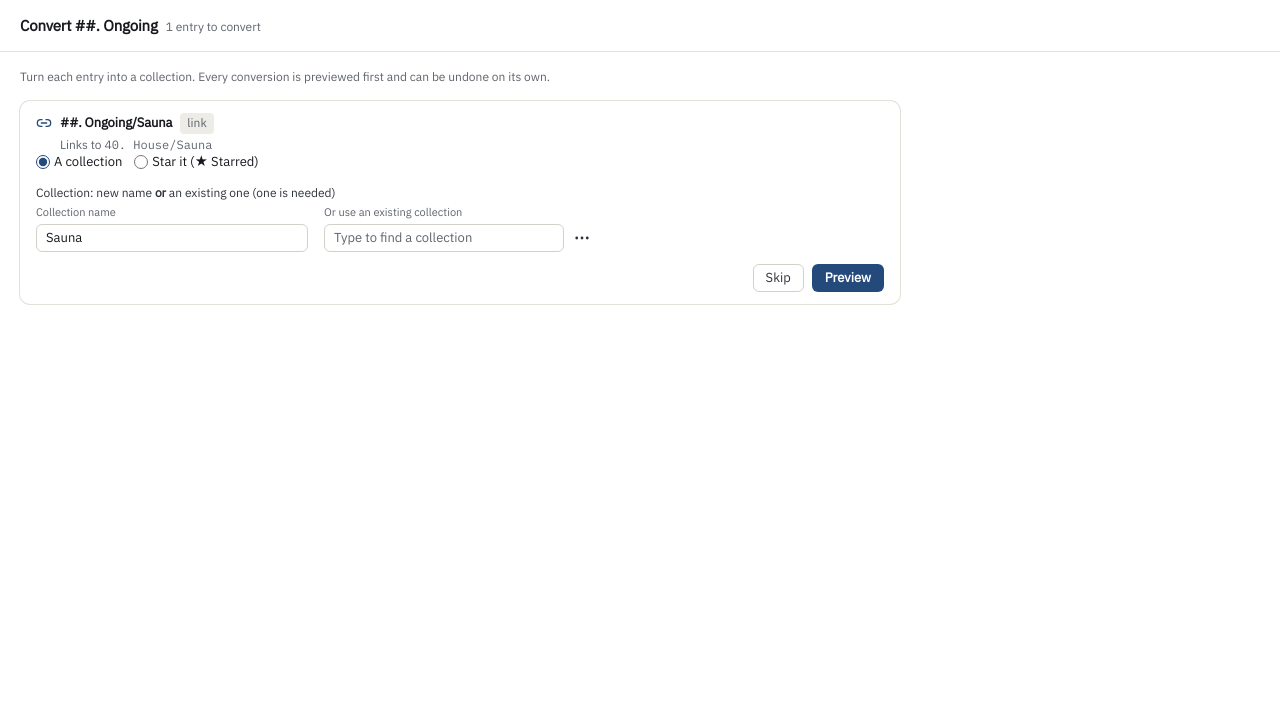
Scenario: ConvertOngoing › previews a new collection, shows ops, members and notes, and applies exactly the previewed body
Replace the text in the field labelled "Collection name" with "Sauna build" at (172, 238), box [36,224,308,252]
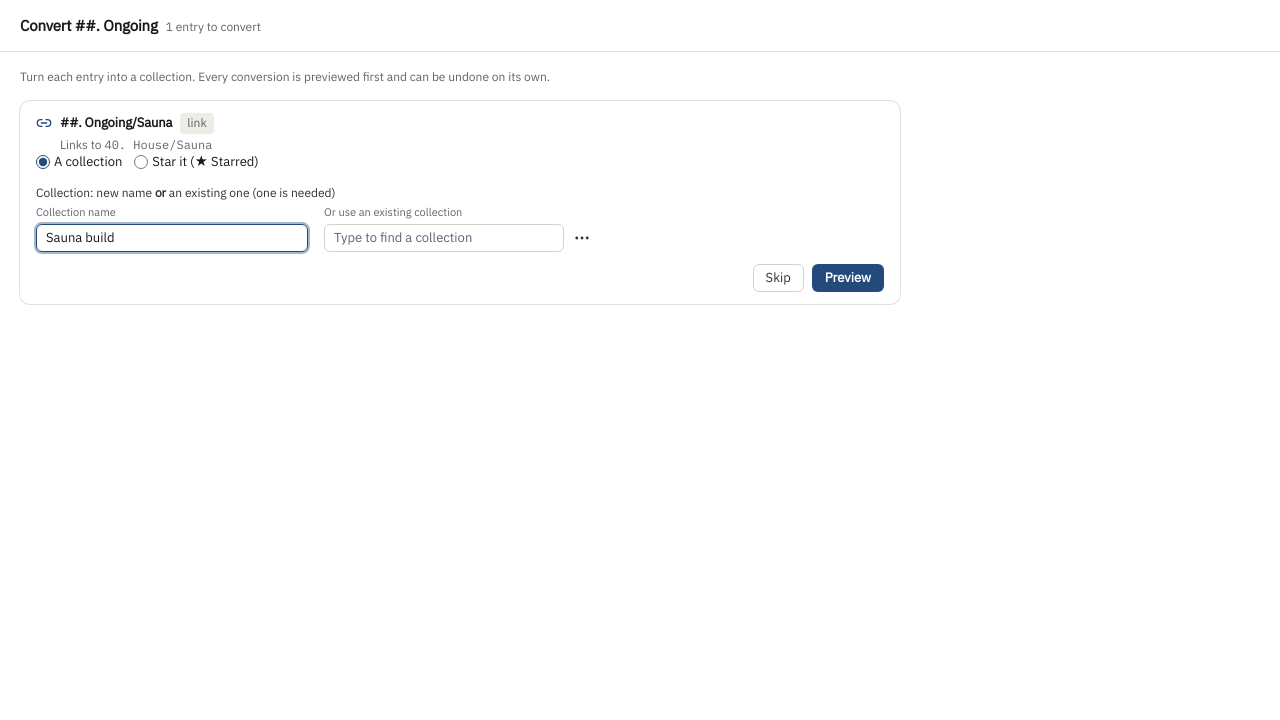
Click the button "Preview" at (848, 278), box [812,264,884,292]
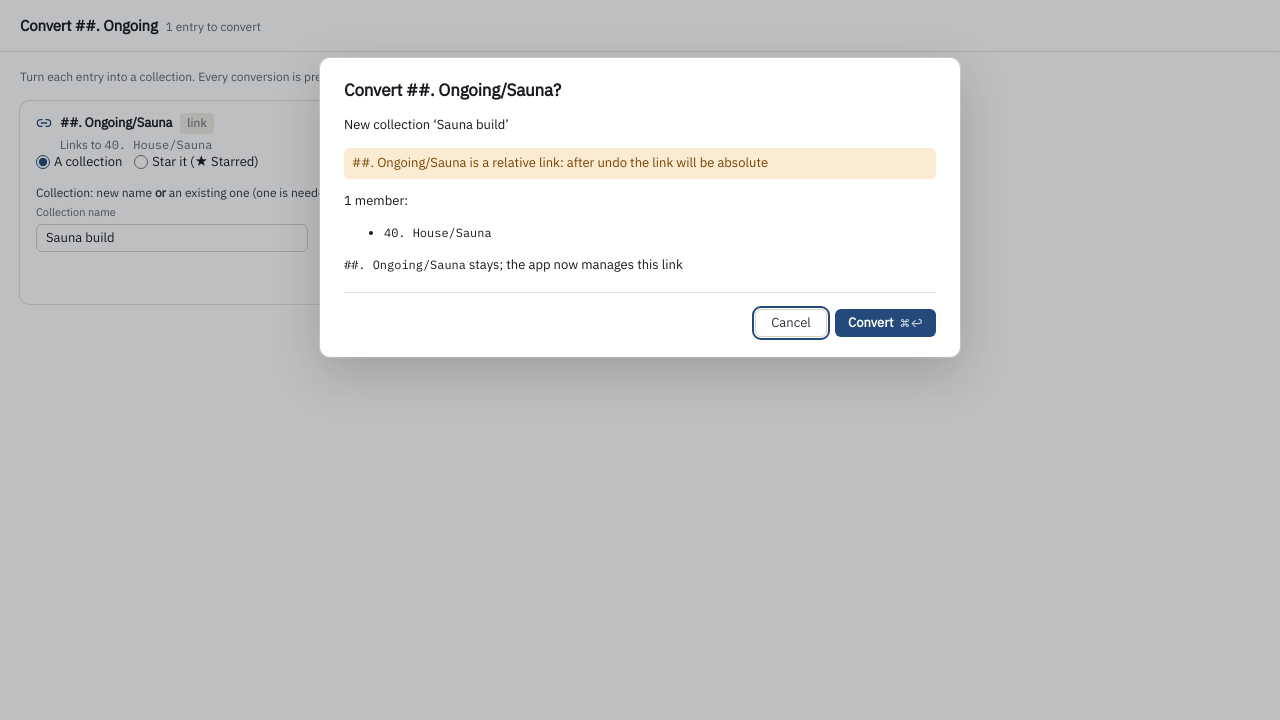
Now the text "New collection ‘Sauna build’" is shown, box [344,116,509,133]
Now the text "after undo the link will be absolute" is shown, box [352,154,768,171]
Now the text "40. House/Sauna" is shown, box [384,225,492,240]
Click the button "Convert⌘↩" at (886, 324), box [835,310,936,338]
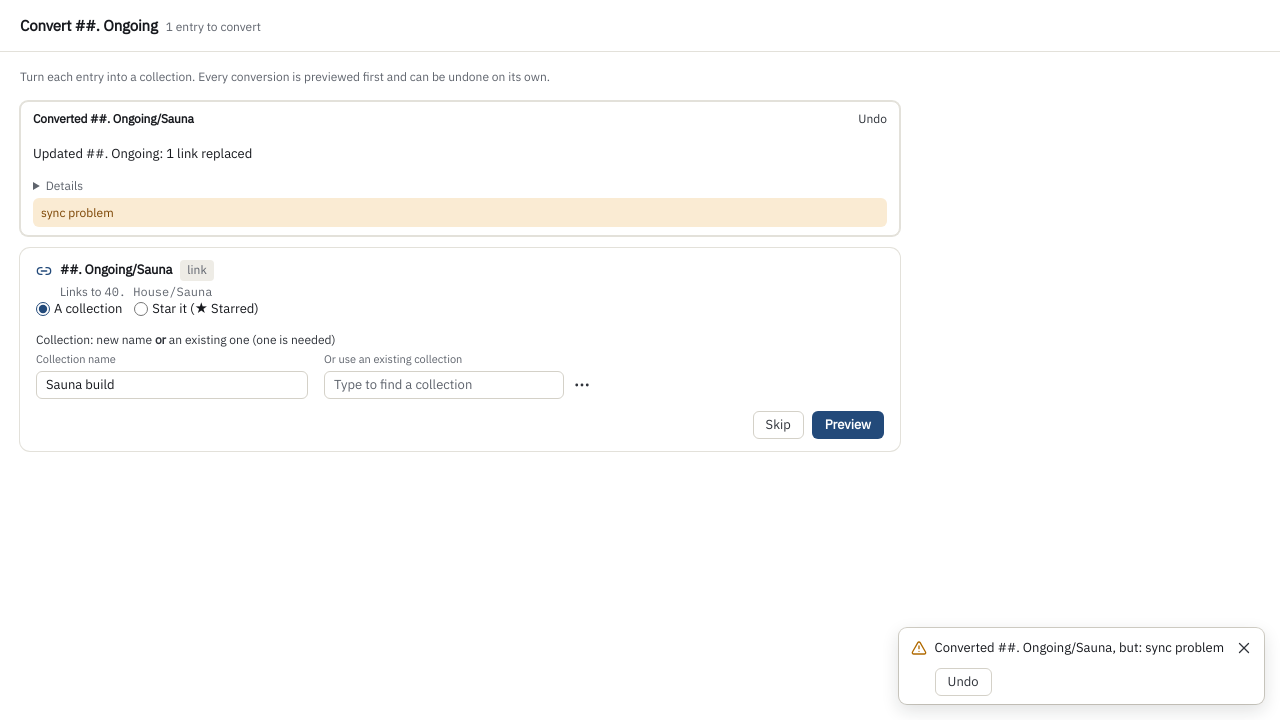
Now the text "Converted ##. Ongoing/Sauna, but: sync problem" is shown, box [935,639,1224,657]
